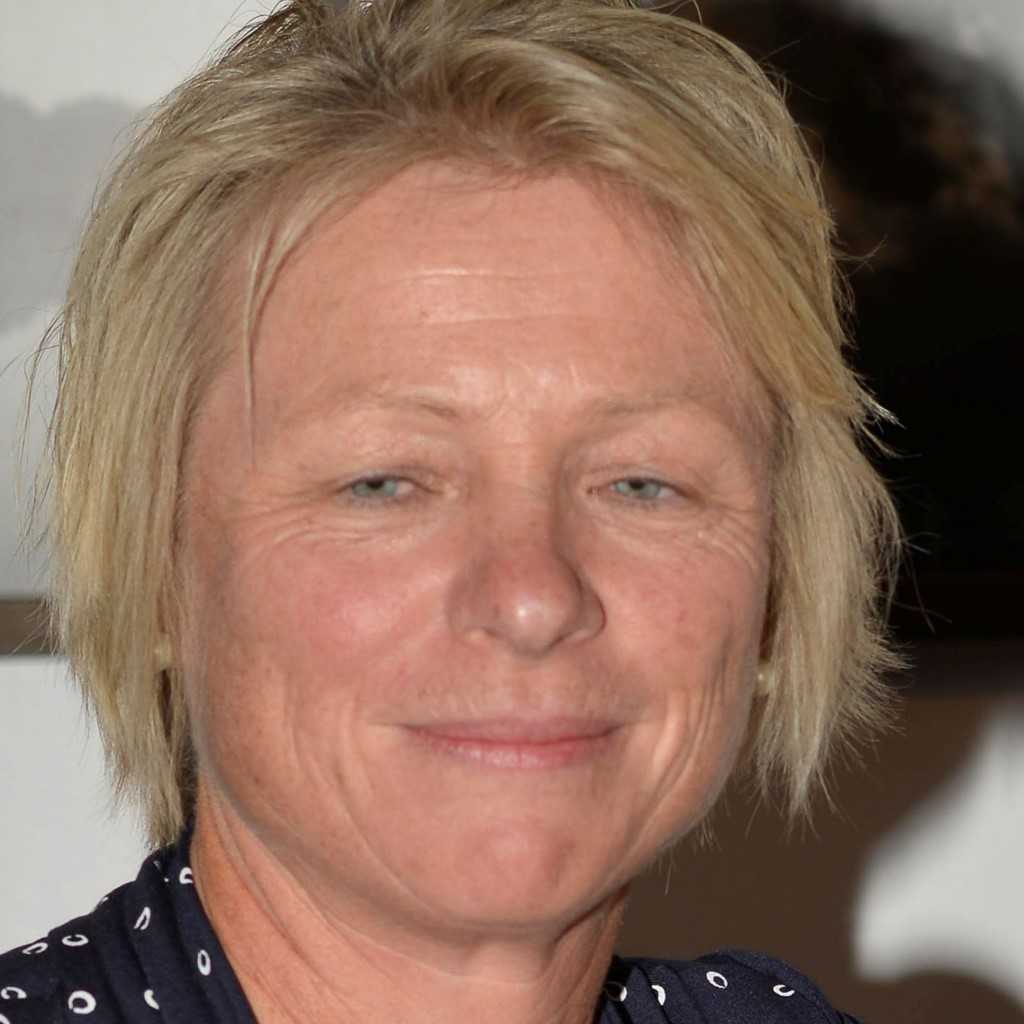sin_mascara: (146, 116, 774, 948)
